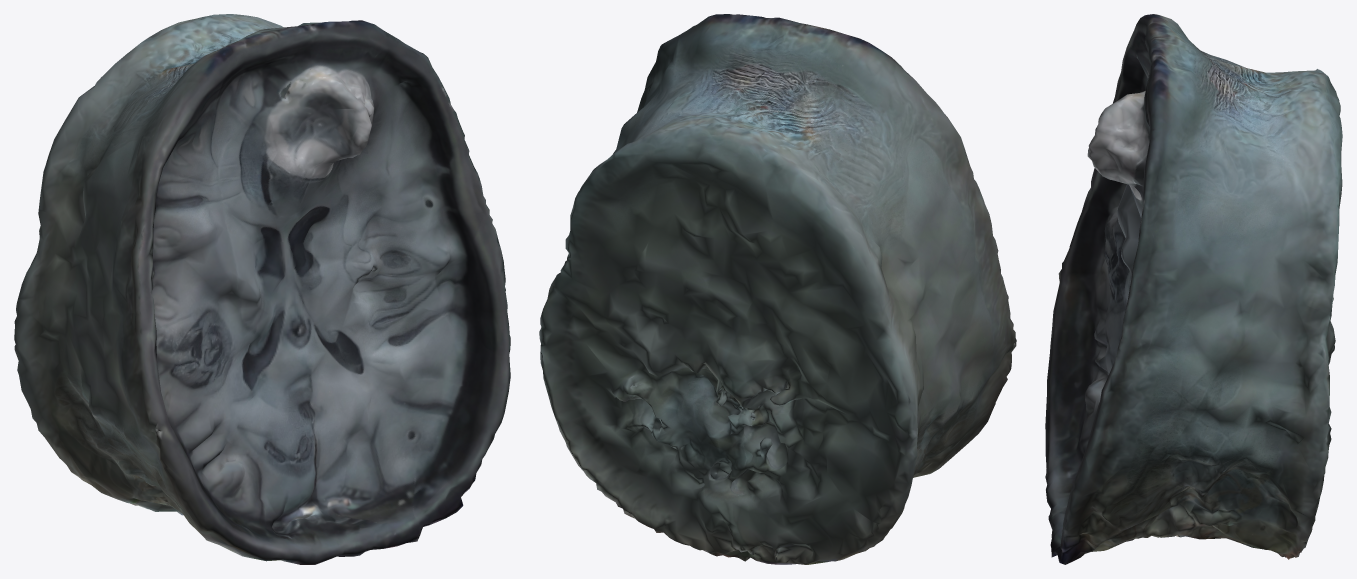
Rendered from glb.glb.
3 renders of one model, left to right at view 1: azimuth 30°, elevation 25°; view 2: azimuth 150°, elevation 25°; view 3: azimuth 270°, elevation 25°, orthographic. The views are drawn at different scales.
Size of the model in its own units: 0.9687 by 1.2 by 0.6502.
1 material, 1 textured.
